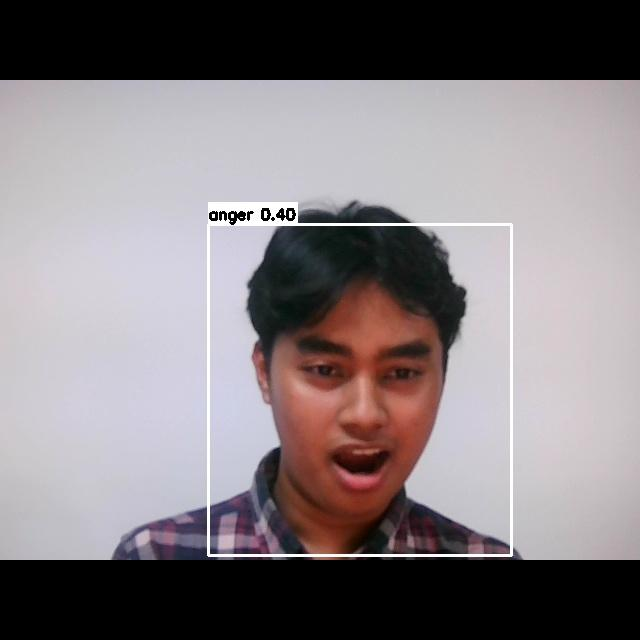Surprised: (281, 312, 443, 505)
